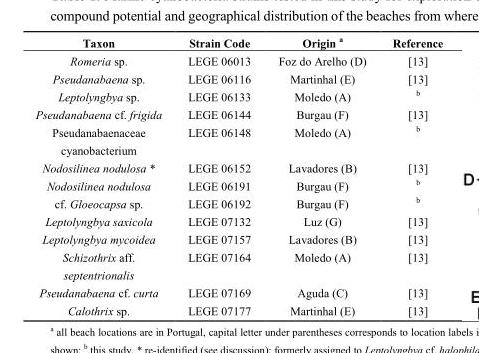table: (34, 34, 442, 316)
table column: (34, 34, 174, 316), (263, 34, 378, 316), (174, 34, 263, 316), (378, 34, 442, 316)
table column header: (34, 34, 442, 51)
table row: (34, 122, 442, 158), (34, 247, 442, 283), (34, 86, 442, 105), (34, 193, 442, 212), (34, 51, 442, 69), (34, 175, 442, 193), (34, 229, 442, 247), (34, 283, 442, 301), (34, 34, 442, 51), (34, 69, 442, 86), (34, 105, 442, 122), (34, 158, 442, 175), (34, 212, 442, 229), (34, 301, 442, 316)
